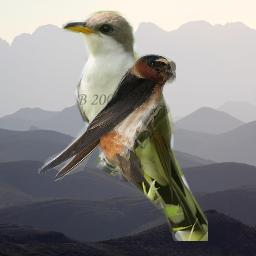Cuckoo: (62, 9, 208, 241)
Swallow: (38, 54, 176, 182)
